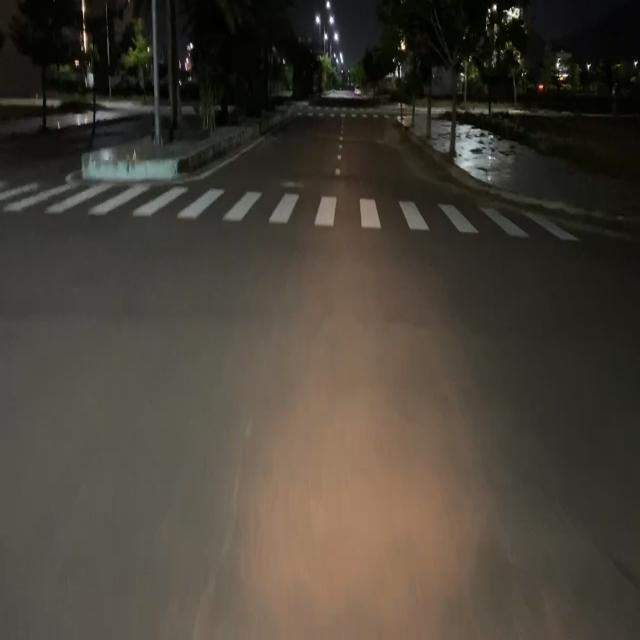walk-crossing: (0, 173, 578, 246)
